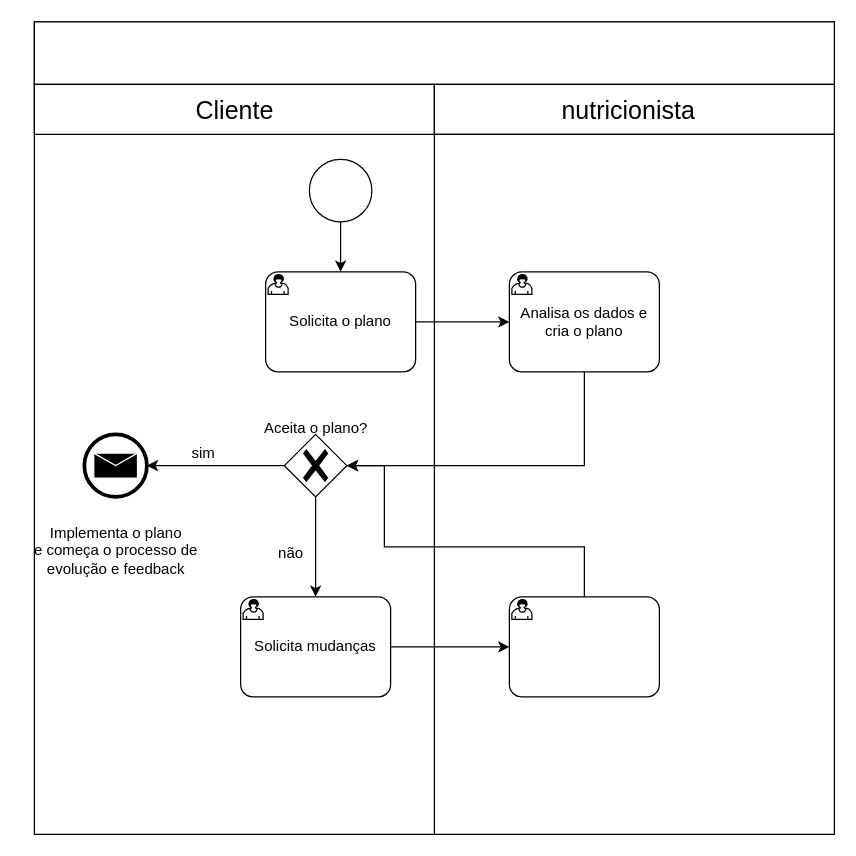
Image size: 856x856. Some labels were removed from this diagram. Each missing label, with the centre of its shape:
"Avalia as mudaças solicitadas e faz as devidas alterações" goes at [583,646].
"Criação do plano alimentar" goes at [433,52].
